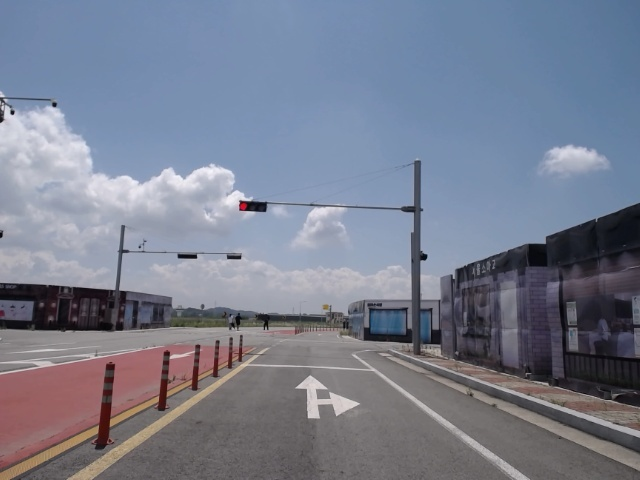red_3: (238, 200, 268, 212)
